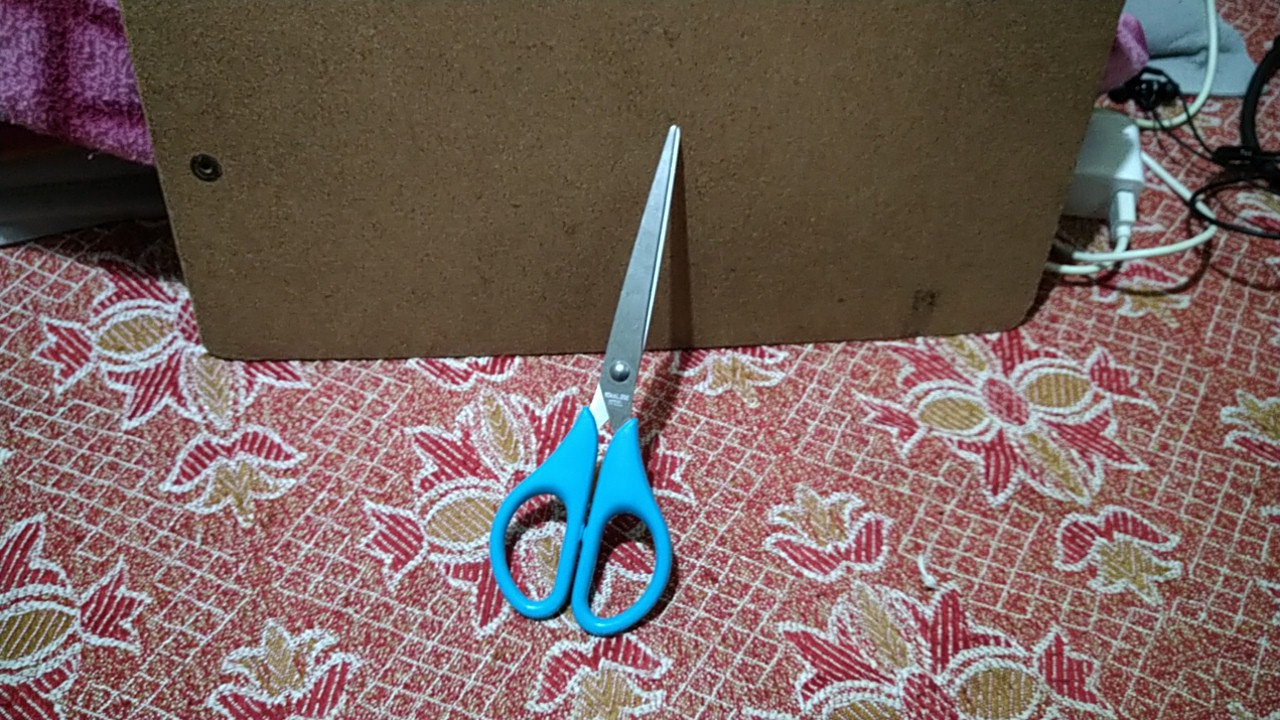scissor: (469, 108, 723, 649)
